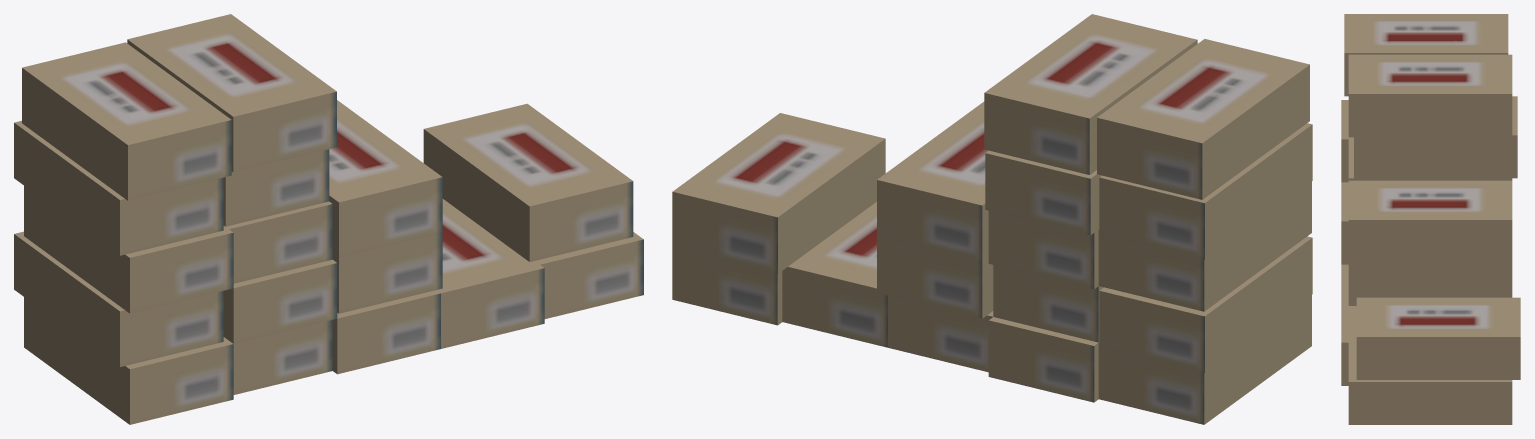
The model's file is SM_Prop_Hunting_Ammo_Pile_01.obj.
3 views of the same model, side by side, from view 1: azimuth 30°, elevation 25°; view 2: azimuth 150°, elevation 25°; view 3: azimuth 270°, elevation 25° (orthographic). The views are drawn at different scales.
Parts seen in each view (by area): view 1: SM_Prop_Hunting_Ammo_Pile_01_0; view 2: SM_Prop_Hunting_Ammo_Pile_01_0; view 3: SM_Prop_Hunting_Ammo_Pile_01_0.
Part boxes in pixels (x1,y1,x2,y2): SM_Prop_Hunting_Ammo_Pile_01_0: (14, 14, 643, 424); SM_Prop_Hunting_Ammo_Pile_01_0: (672, 14, 1312, 424); SM_Prop_Hunting_Ammo_Pile_01_0: (1341, 14, 1520, 424).
Bounding box in the file's own units: 0.6247 × 0.3173 × 0.2392.
Materials: 1 (1 with a texture image).
